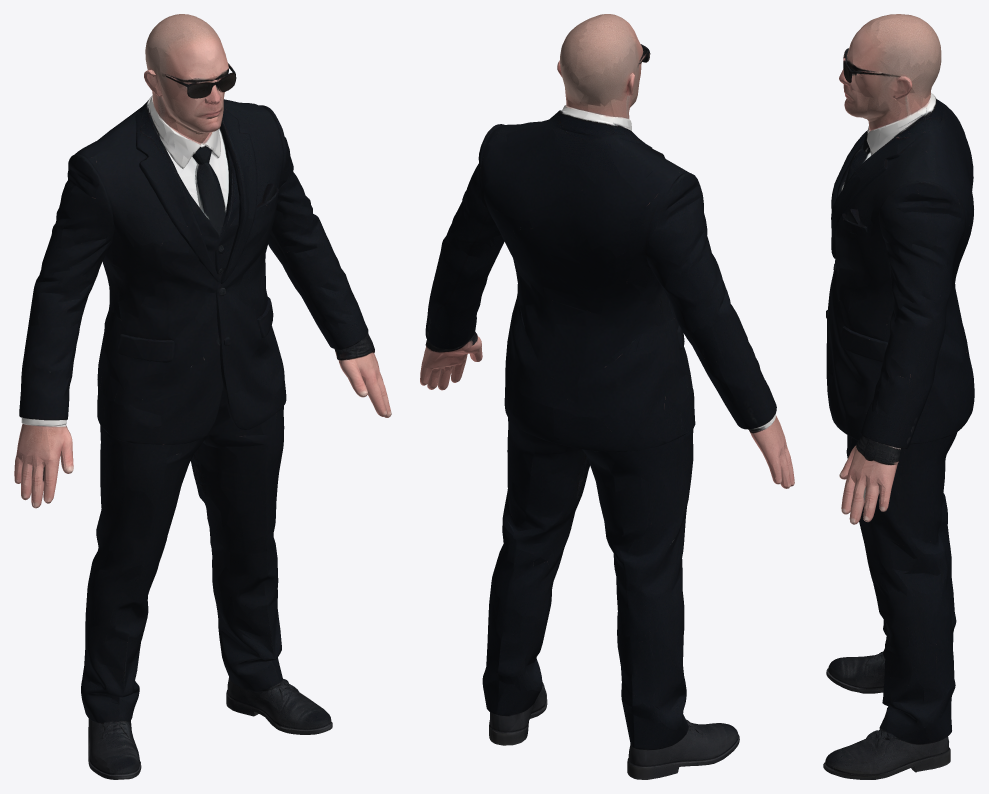
Rendered from enemy_guard.glb.
3 views of the same model, side by side, from view 1: azimuth 30°, elevation 25°; view 2: azimuth 150°, elevation 25°; view 3: azimuth 270°, elevation 25° (orthographic). The views are drawn at different scales.
Visible parts, largest first — view 1: Mesh_0; view 2: Mesh_0; view 3: Mesh_0.
Part boxes in pixels (left/top/right/bottom): Mesh_0: left=14, top=14, right=391, bottom=779; Mesh_0: left=420, top=14, right=794, bottom=779; Mesh_0: left=823, top=14, right=974, bottom=779.
Size of the model in its own units: 1.01 by 1.9 by 0.3682.
Materials: 1 (1 with a texture image).
